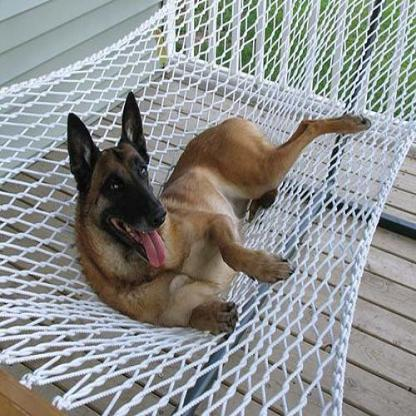malinois: (66, 90, 370, 330)
